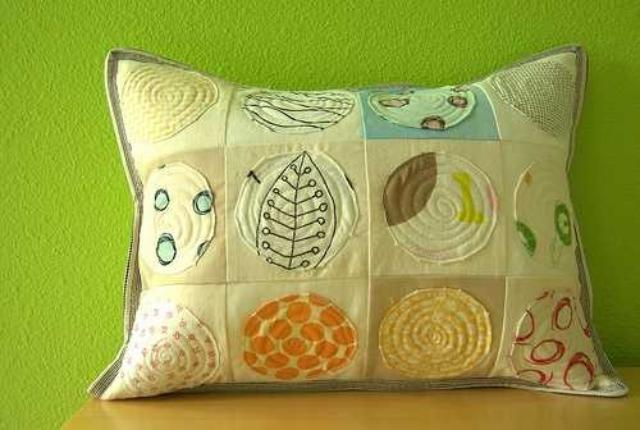pillow: (89, 44, 627, 400)
